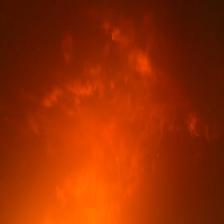fire: (5, 23, 207, 219)
